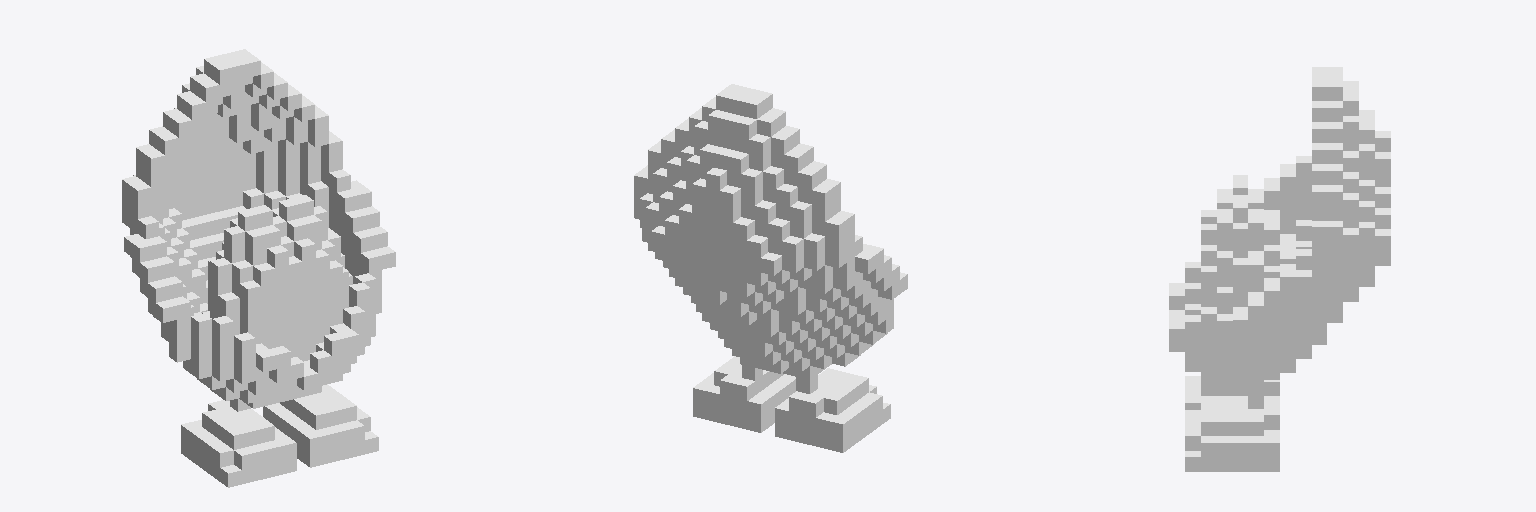
The model's file is oisterchild.obj.
3 renders of one model, left to right at view 1: azimuth 30°, elevation 25°; view 2: azimuth 150°, elevation 25°; view 3: azimuth 270°, elevation 25°, orthographic.
Visible parts, largest first — view 1: object 1; view 2: object 1; view 3: object 1.
Part boxes in pixels (x1,y1,x2,y2): object 1: (122,49,395,487); object 1: (634,84,907,452); object 1: (1169,67,1390,471).
Size of the model in its own units: 1.7 by 2.5 by 1.4.